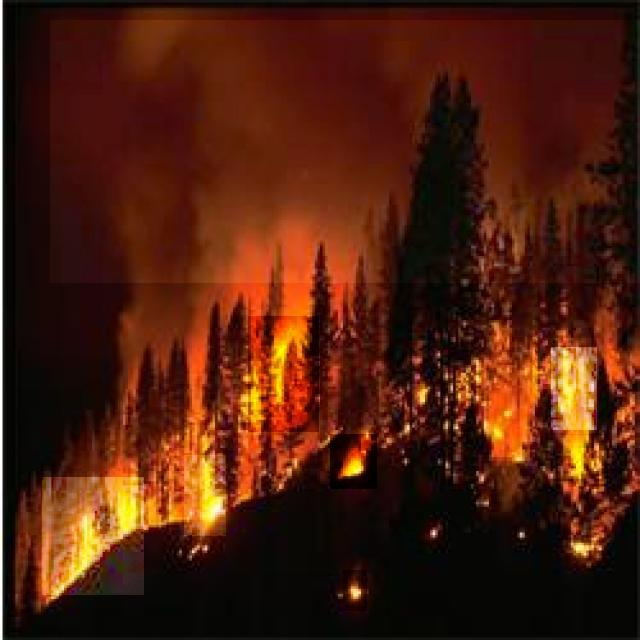Fire: (42, 478, 144, 596), (442, 338, 536, 460), (248, 316, 319, 432), (551, 347, 597, 430), (184, 455, 226, 536), (330, 434, 377, 489), (568, 434, 608, 487), (343, 570, 367, 611)
Smoke: (50, 20, 640, 283)
